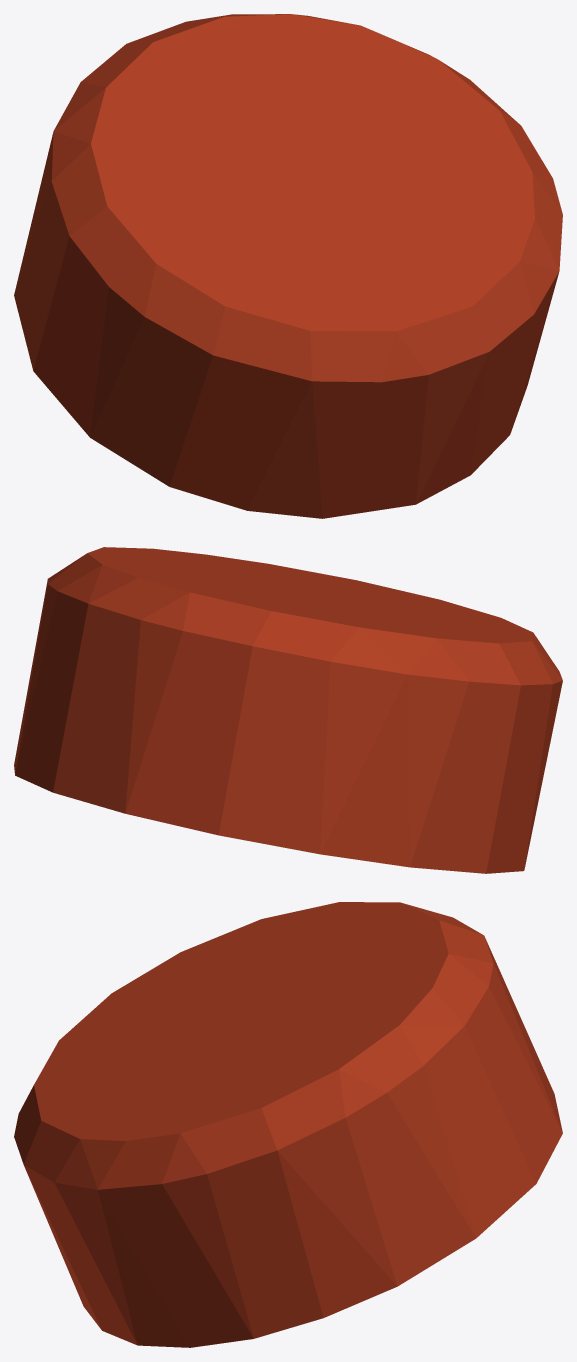
File: BotonRojo_Hub.fbx
The picture shows the model from 3 angles, top to bottom: view 1: azimuth 30°, elevation 25°; view 2: azimuth 150°, elevation 25°; view 3: azimuth 270°, elevation 25°; orthographic projection. The views are drawn at different scales.
Parts seen in each view (by area): view 1: BotonRojo_Hub; view 2: BotonRojo_Hub; view 3: BotonRojo_Hub.
Boxes of the visible parts, x1,y1,x2,y2 form: BotonRojo_Hub: (14, 14, 562, 518); BotonRojo_Hub: (14, 547, 562, 873); BotonRojo_Hub: (14, 902, 562, 1347).
Size of the model in its own units: 135 by 101 by 143.
